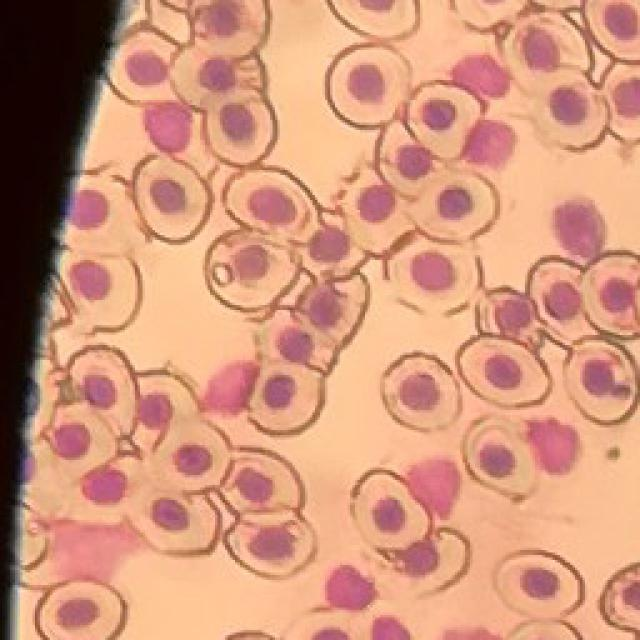RBC: (499, 7, 593, 100), (205, 230, 300, 311), (224, 168, 320, 244), (60, 453, 160, 525), (388, 236, 480, 314), (326, 44, 410, 128), (38, 401, 119, 488), (125, 488, 225, 558), (132, 155, 211, 242), (65, 345, 138, 439), (168, 42, 266, 112), (458, 335, 551, 408), (65, 172, 145, 256), (409, 169, 499, 242), (351, 469, 431, 551), (340, 168, 415, 255), (565, 338, 639, 424), (381, 352, 461, 431), (224, 509, 315, 578), (148, 419, 232, 493), (532, 68, 608, 149), (62, 254, 141, 331), (495, 550, 584, 618), (132, 368, 200, 457), (462, 418, 536, 499), (290, 209, 372, 282), (528, 258, 596, 346), (298, 269, 370, 350), (254, 308, 339, 376), (408, 81, 481, 160), (109, 24, 179, 104), (389, 528, 471, 596), (35, 580, 126, 640), (220, 448, 302, 514), (250, 360, 324, 433), (205, 90, 276, 165), (582, 252, 640, 338), (190, 0, 269, 57), (378, 120, 432, 199), (476, 288, 541, 350), (328, 0, 419, 39), (600, 562, 640, 639), (602, 62, 640, 141), (452, 0, 536, 33), (144, 102, 191, 152), (282, 610, 359, 640)
WBC: (406, 459, 460, 519), (554, 199, 605, 261), (528, 418, 579, 474), (204, 361, 259, 412), (462, 120, 515, 168), (451, 54, 510, 97), (326, 565, 376, 610), (373, 616, 410, 640)
